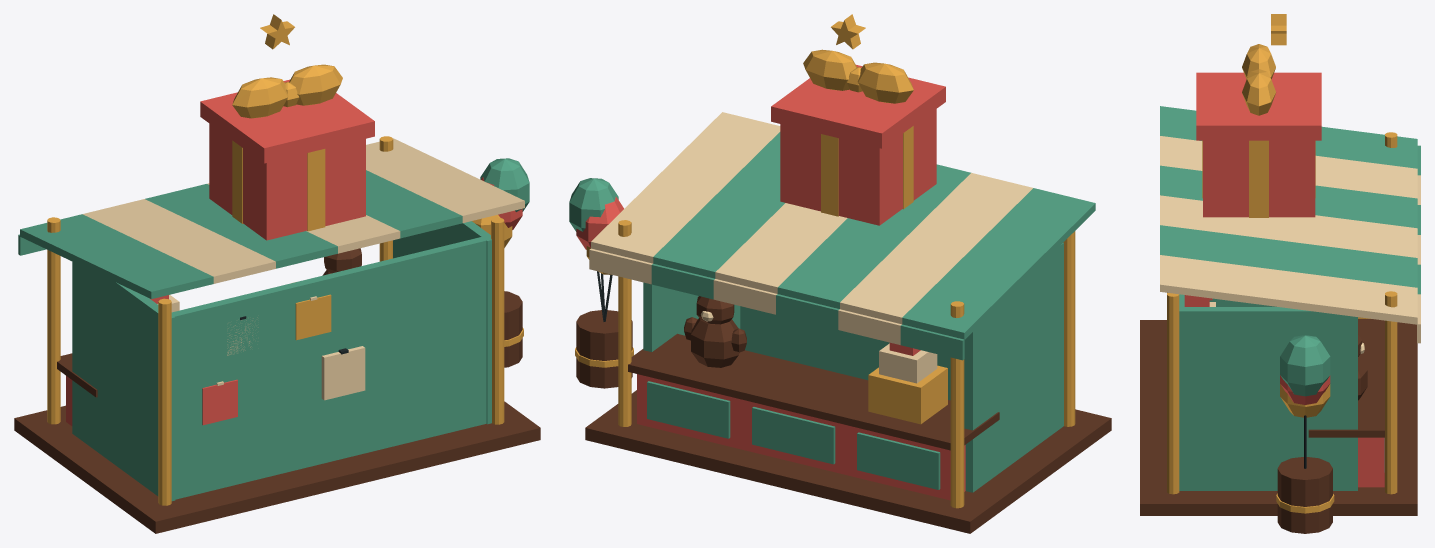
Rendered from ParkParkGiftShop.obj.
The picture shows the model from 3 angles, left to right: view 1: azimuth 30°, elevation 25°; view 2: azimuth 150°, elevation 25°; view 3: azimuth 270°, elevation 25°; orthographic projection. The views are drawn at different scales.
Parts seen in each view (by area): view 1: ParkParkGiftShop; view 2: ParkParkGiftShop; view 3: ParkParkGiftShop.
Part boxes in pixels (box(x1,y1,x2,y2)): ParkParkGiftShop: box(14, 14, 540, 533); ParkParkGiftShop: box(569, 14, 1111, 533); ParkParkGiftShop: box(1140, 14, 1420, 533).
Bounding box in the file's own units: 7.81 × 6.85 × 4.25.
